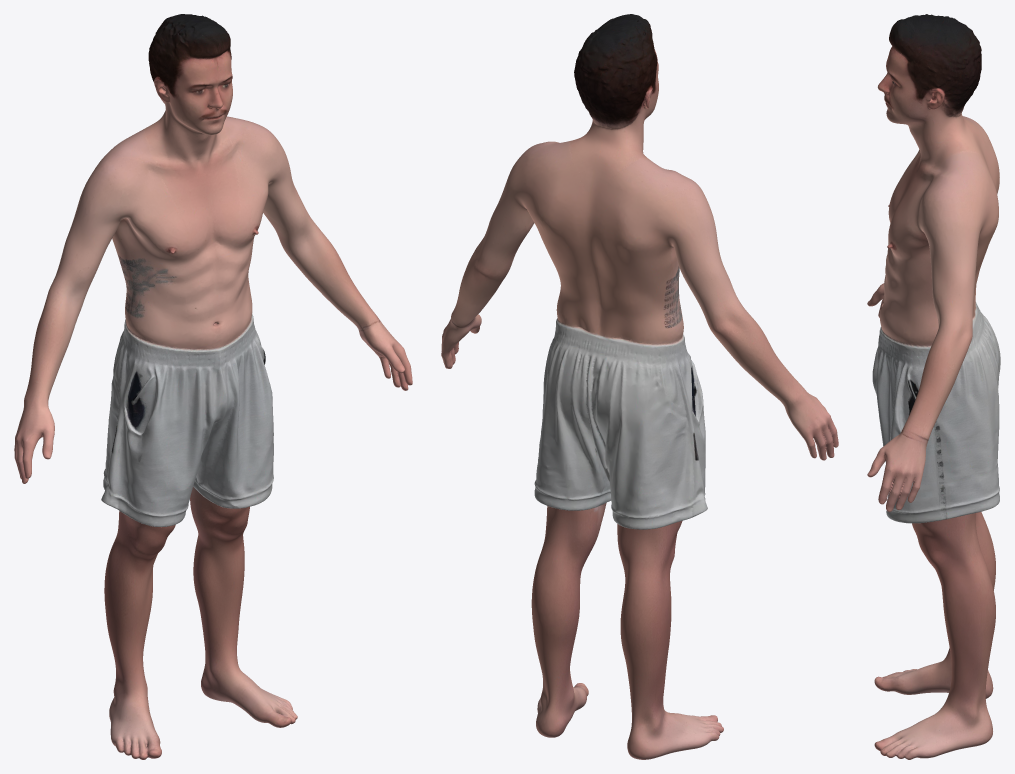
File: corps.glb
3 views of the same model, side by side, from view 1: azimuth 30°, elevation 25°; view 2: azimuth 150°, elevation 25°; view 3: azimuth 270°, elevation 25° (orthographic).
Bounding box in the file's own units: 1.09 × 1.9 × 0.3265.
1 material, 1 textured.
